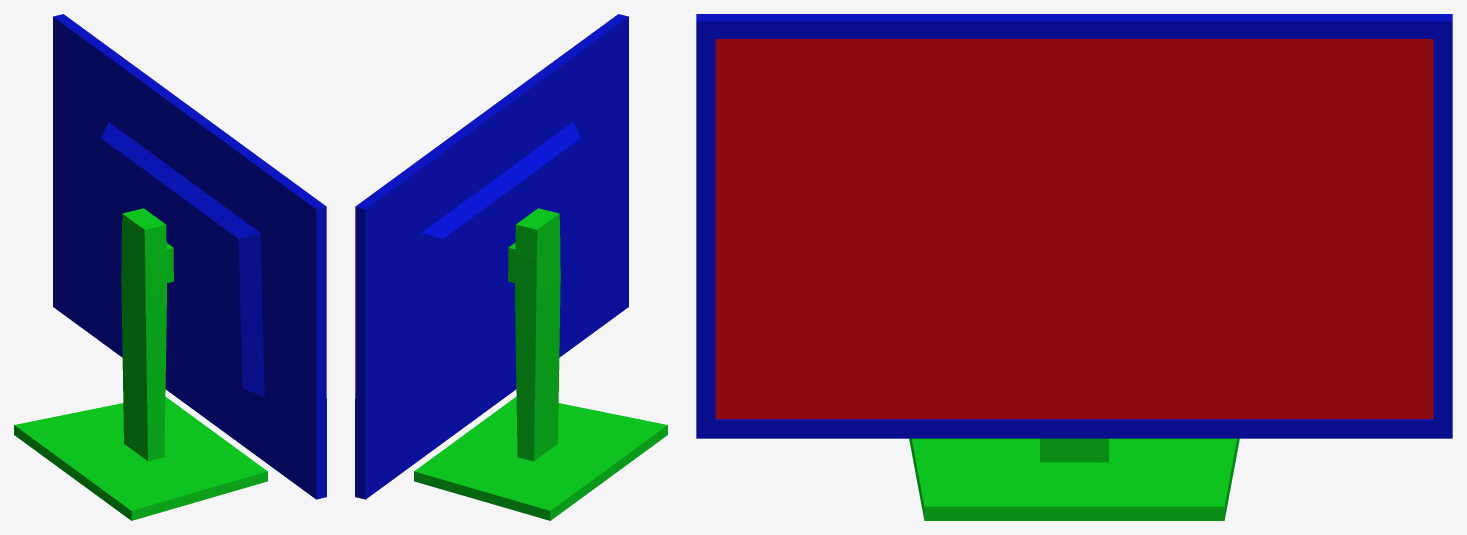
File: Monitor.fbx
The picture shows the model from 3 angles, left to right: view 1: azimuth 30°, elevation 25°; view 2: azimuth 150°, elevation 25°; view 3: azimuth 270°, elevation 25°; orthographic projection. The views are drawn at different scales.
Visible parts, largest first — view 1: Cube; view 2: Cube; view 3: Cube.
Part boxes in pixels (box(x1,y1,x2,y2)): Cube: box(14, 14, 326, 520); Cube: box(355, 14, 667, 520); Cube: box(696, 14, 1452, 520).
Bounding box in the file's own units: 19.7 × 44.56 × 62.95.
